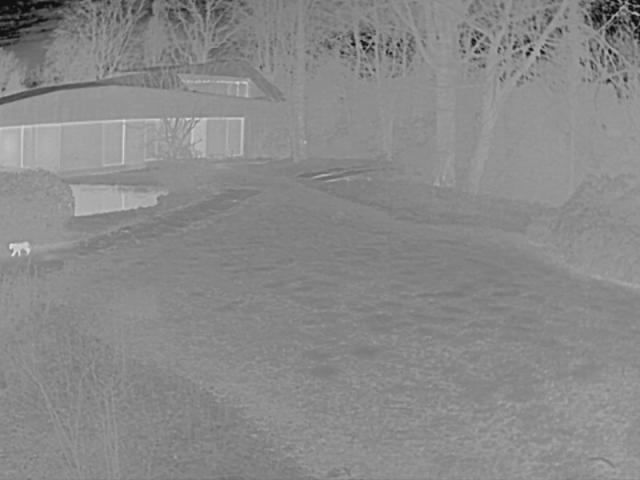dog: (9, 241, 30, 258)
